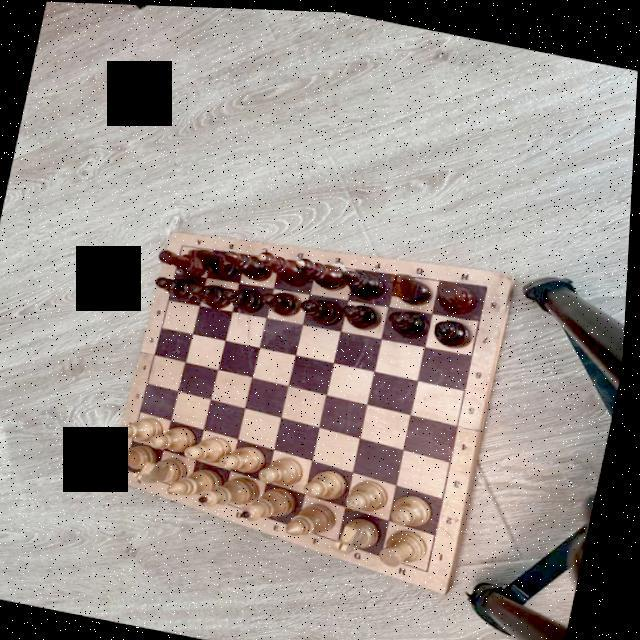chess-table-corners: (429, 562, 438, 572), (180, 239, 190, 247), (486, 278, 494, 286), (126, 465, 134, 470)
